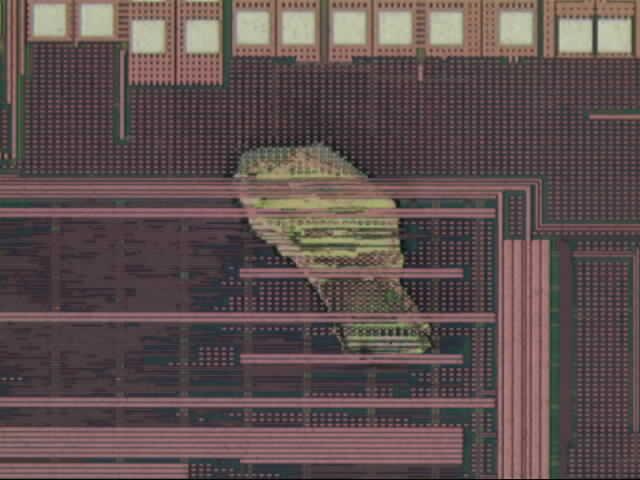BLOCK ETCH: (226, 134, 438, 358)
